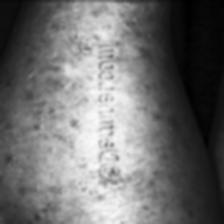Potentially Malignant Skin Tumors: (72, 38, 92, 54)
